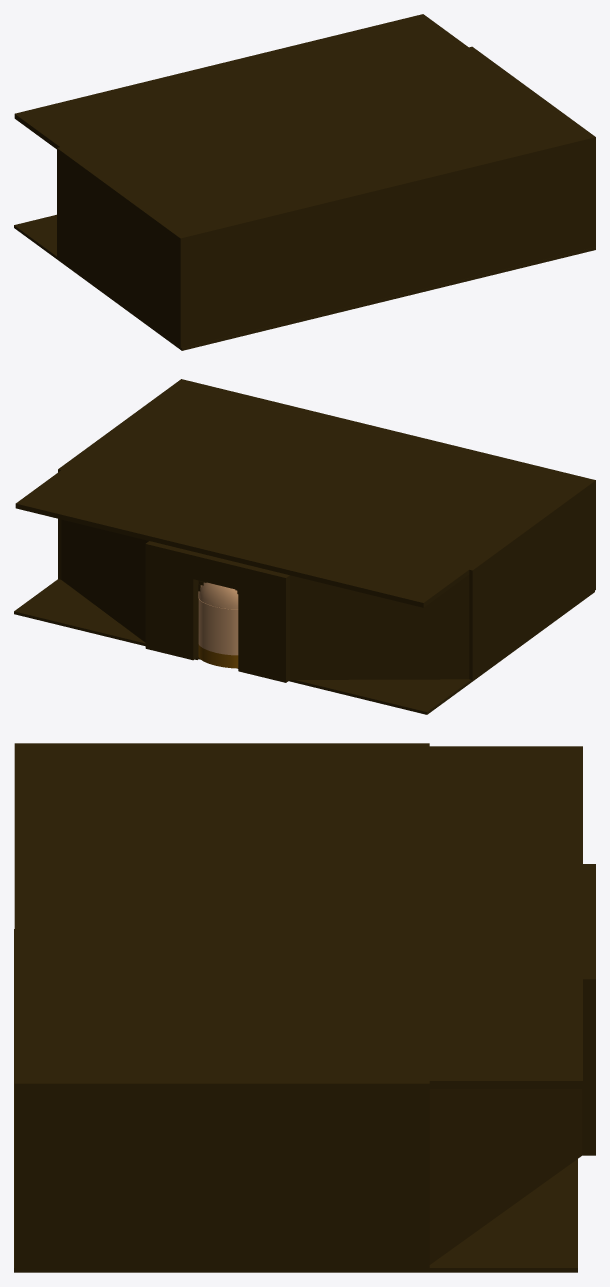
The model's file is OrchestraHall.fbx.
The picture shows the model from 3 angles, top to bottom: view 1: azimuth 30°, elevation 25°; view 2: azimuth 150°, elevation 25°; view 3: azimuth 270°, elevation 25°; orthographic projection. The views are drawn at different scales.
Visible parts, largest first — view 1: pCube9; view 2: pCube9, pCylinder7; view 3: pCube9.
Boxes of the visible parts, left/top/right/bottom form: pCube9: left=14, top=14, right=595, bottom=350; pCube9: left=14, top=379, right=595, bottom=714; pCylinder7: left=198, top=582, right=238, bottom=668; pCube9: left=14, top=743, right=595, bottom=1272.
Size of the model in its own units: 716 by 186 by 518.
